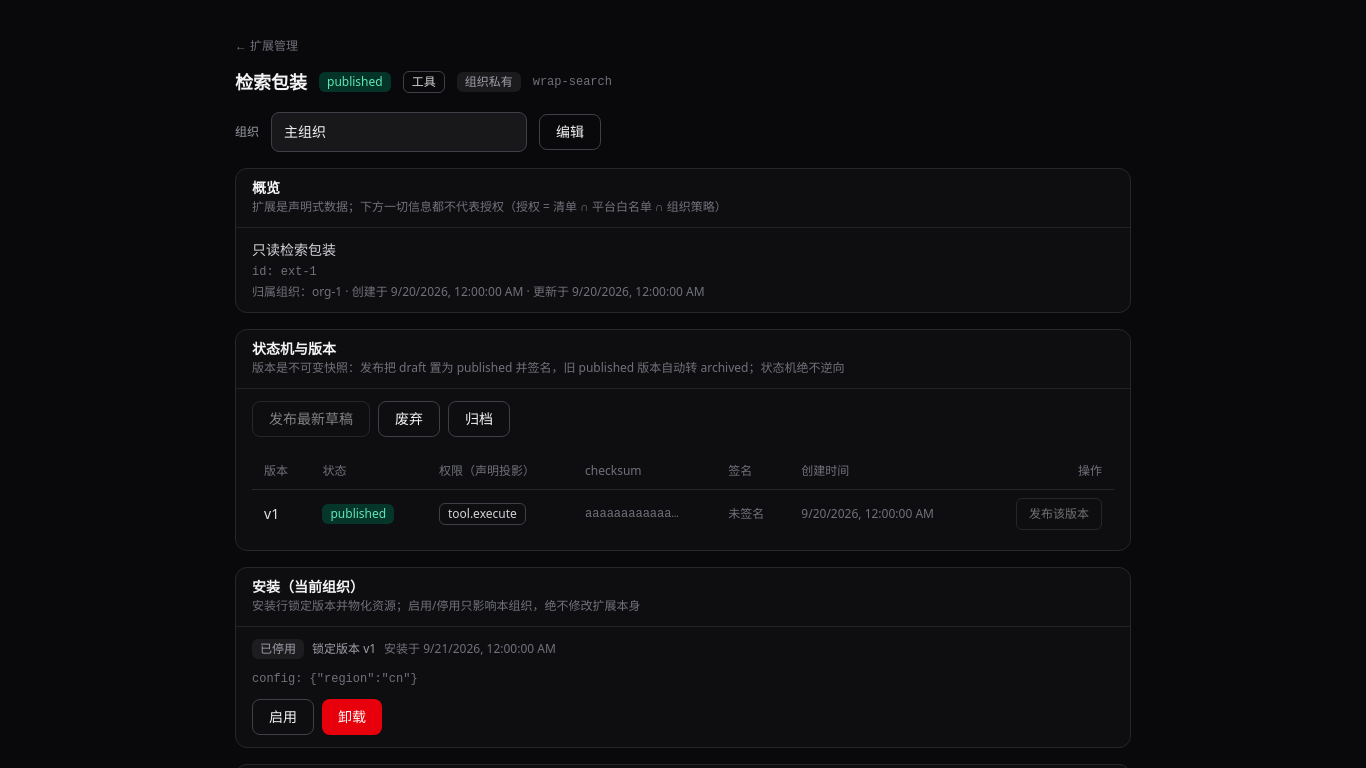
Test: 扩展详情：安装态 › 已安装（停用态）：显示锁定版本与安装配置，可启用、可卸载（卸载需确认）
The width and height of the screenshot is (1366, 768).
Check: the heading "检索包装" is shown, box [235, 68, 307, 96]
Check: the text "已停用" is shown, box [252, 638, 304, 658]
Click the button "启用". click: (283, 716)
box: [252, 698, 314, 734]
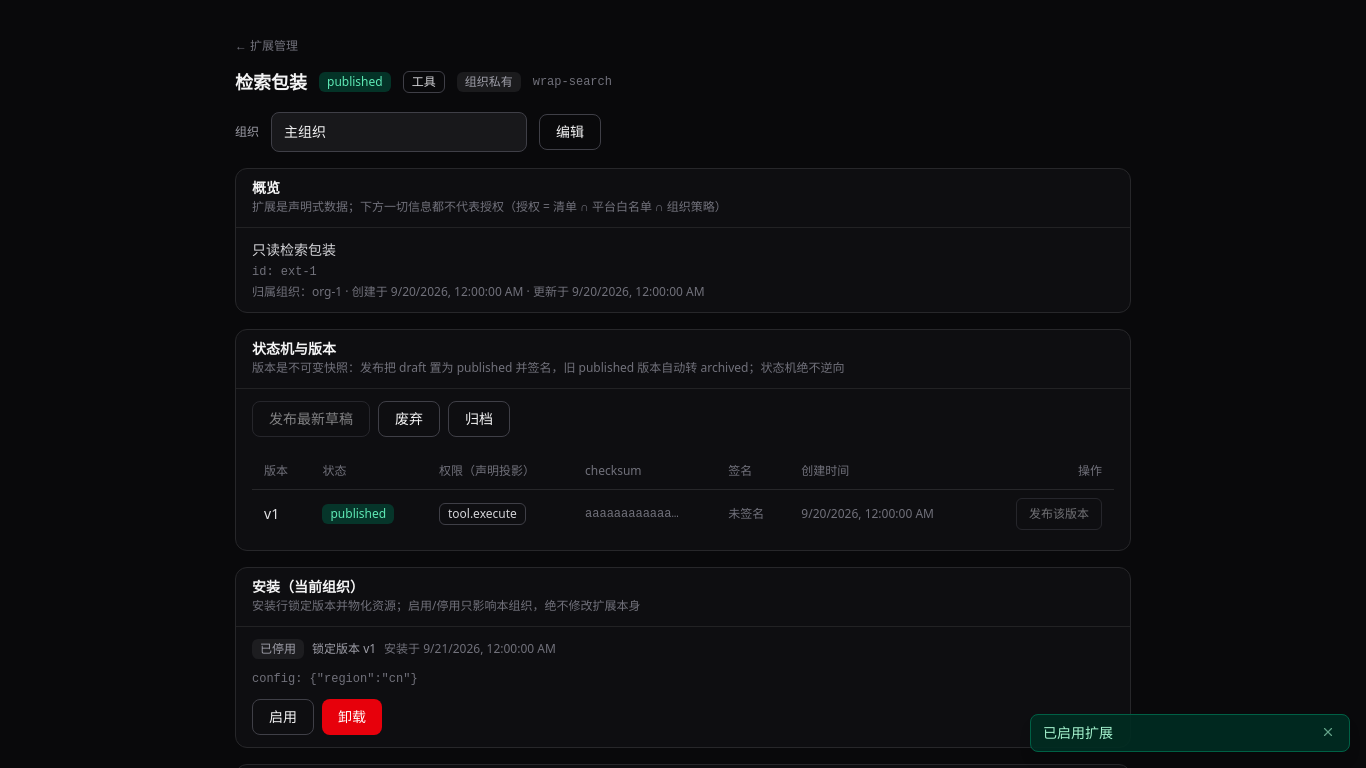
Check: the text "已启用扩展" is shown, box [1043, 723, 1113, 742]
Click the button "卸载". click: (352, 716)
box: [322, 698, 382, 734]
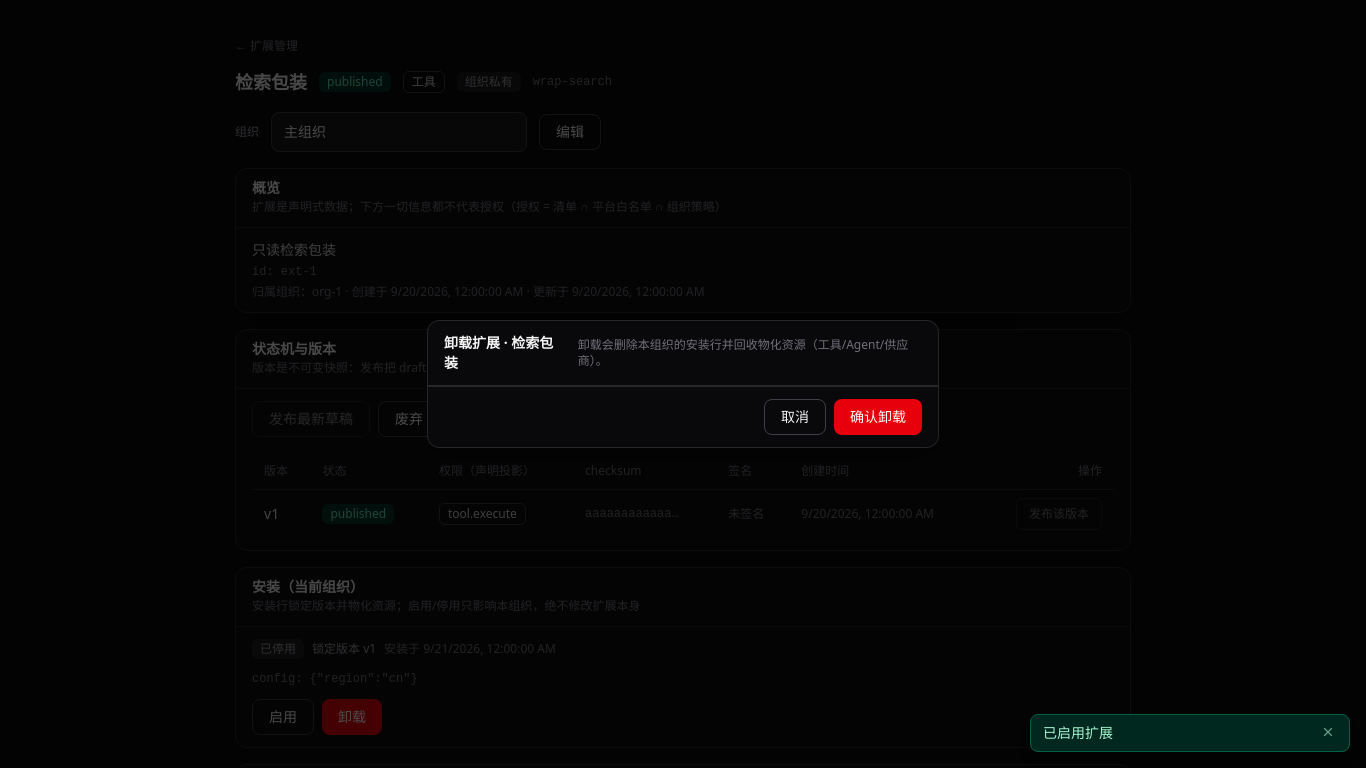
Click the button "确认卸载". click: (878, 417)
box: [834, 399, 922, 435]
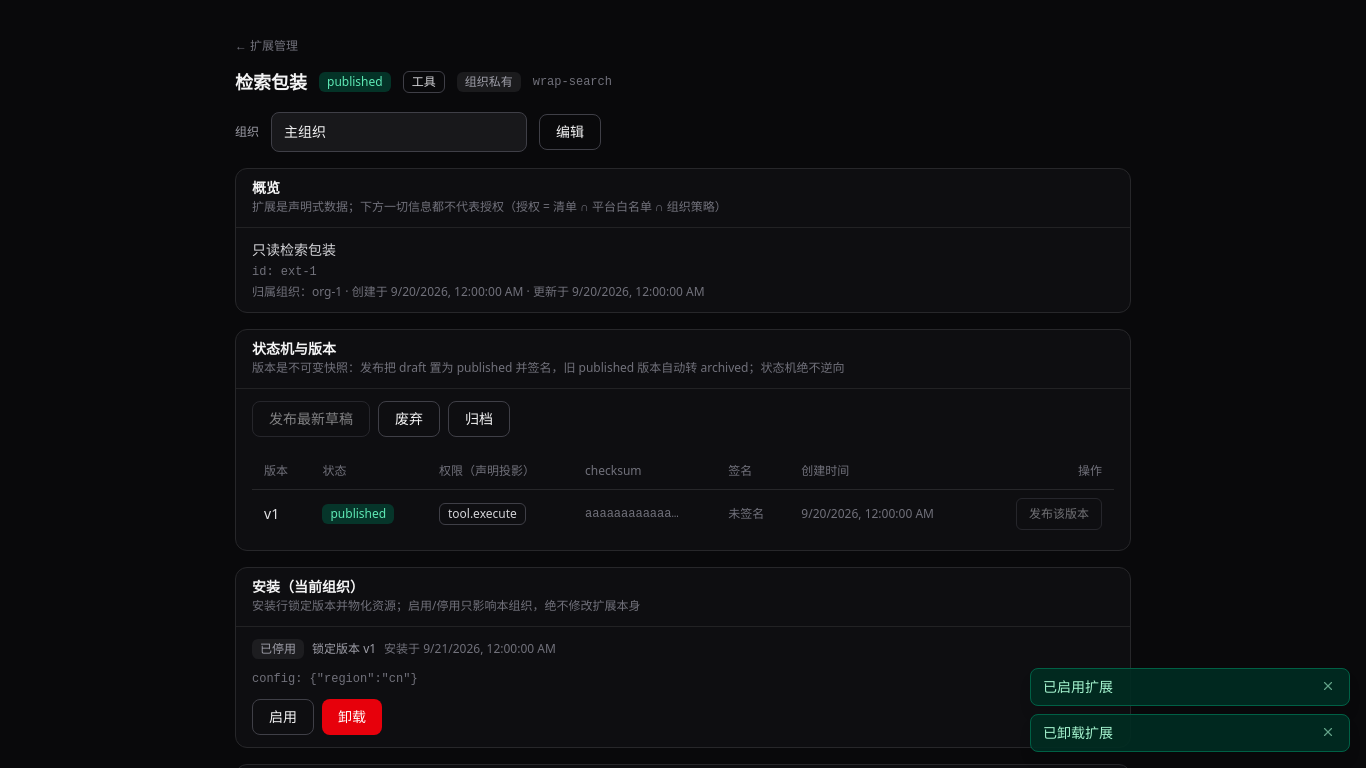
Check: the text "已卸载扩展" is shown, box [1043, 723, 1113, 742]
